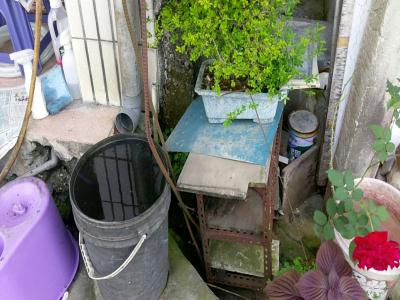bottle: (284, 109, 318, 160)
bucket: (66, 129, 173, 300), (1, 174, 80, 299), (331, 175, 400, 300)
